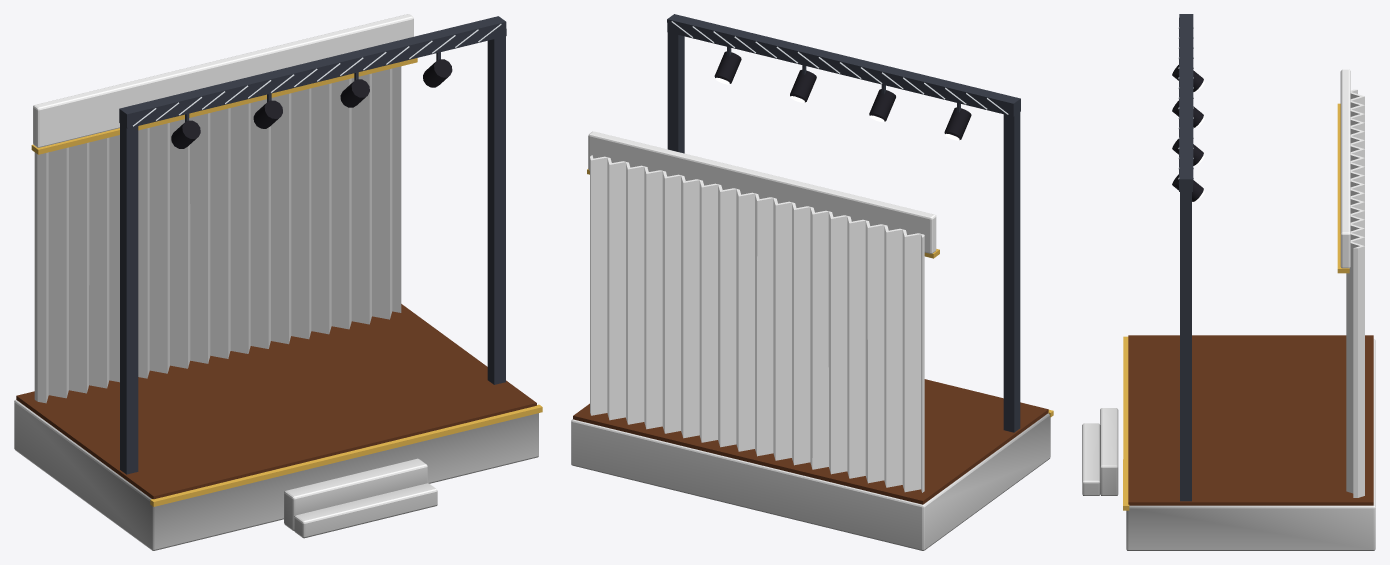
File: stage.glb
3 views of the same model, side by side, from view 1: azimuth 30°, elevation 25°; view 2: azimuth 150°, elevation 25°; view 3: azimuth 270°, elevation 25° (orthographic). The views are drawn at different scales.
Parts seen in each view (by area): view 1: stage_lod0; view 2: stage_lod0; view 3: stage_lod0.
Boxes of the visible parts, left/top/right/bottom form: stage_lod0: left=14, top=14, right=542, bottom=550; stage_lod0: left=571, top=14, right=1053, bottom=550; stage_lod0: left=1082, top=14, right=1375, bottom=550.
Size of what is drawn, in the model's own units: 4.02 by 4.1 by 2.94.
